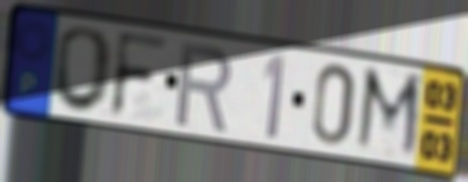0: (309, 60, 359, 151)
1: (261, 53, 287, 142)
F: (106, 27, 172, 123)
M: (352, 63, 426, 165)
O: (49, 24, 118, 116)
R: (173, 38, 236, 135)
